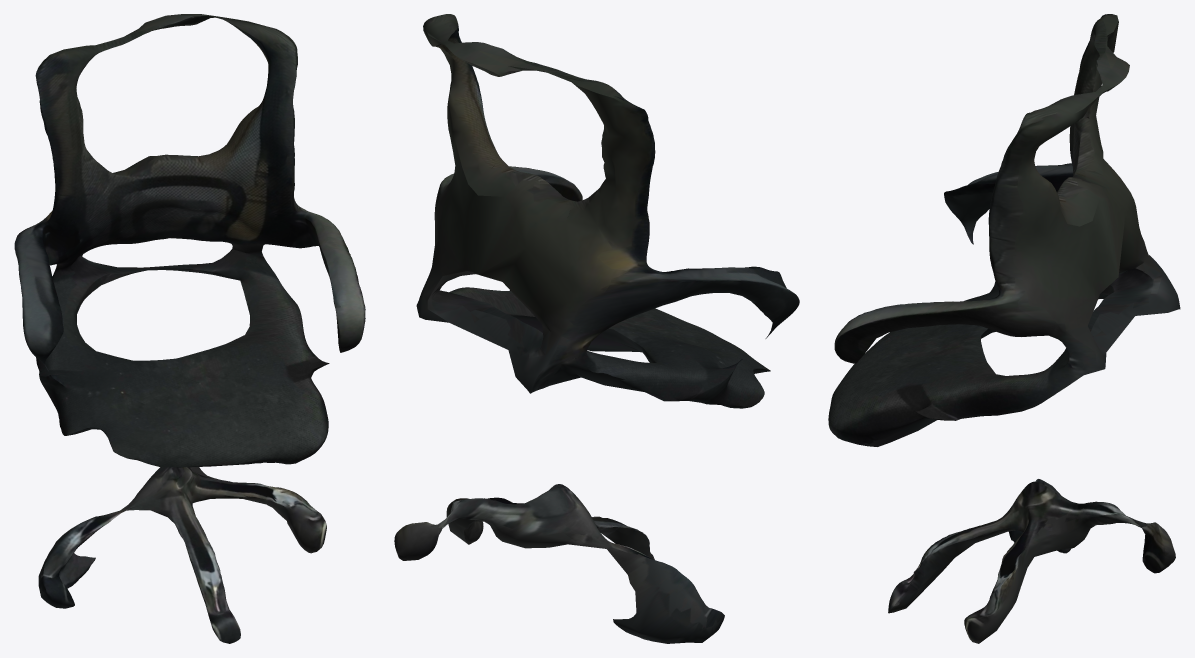
The model's file is result.glb.
3 renders of one model, left to right at view 1: azimuth 30°, elevation 25°; view 2: azimuth 150°, elevation 25°; view 3: azimuth 270°, elevation 25°, orthographic. The views are drawn at different scales.
Visible parts, largest first — view 1: 3DModel; view 2: 3DModel; view 3: 3DModel.
Part boxes in pixels (x1,y1,x2,y2): 3DModel: [14, 14, 365, 643]; 3DModel: [394, 14, 799, 643]; 3DModel: [828, 14, 1180, 643].
Bounding box in the file's own units: 0.6032 × 1 × 0.5585.
1 material, 1 textured.
